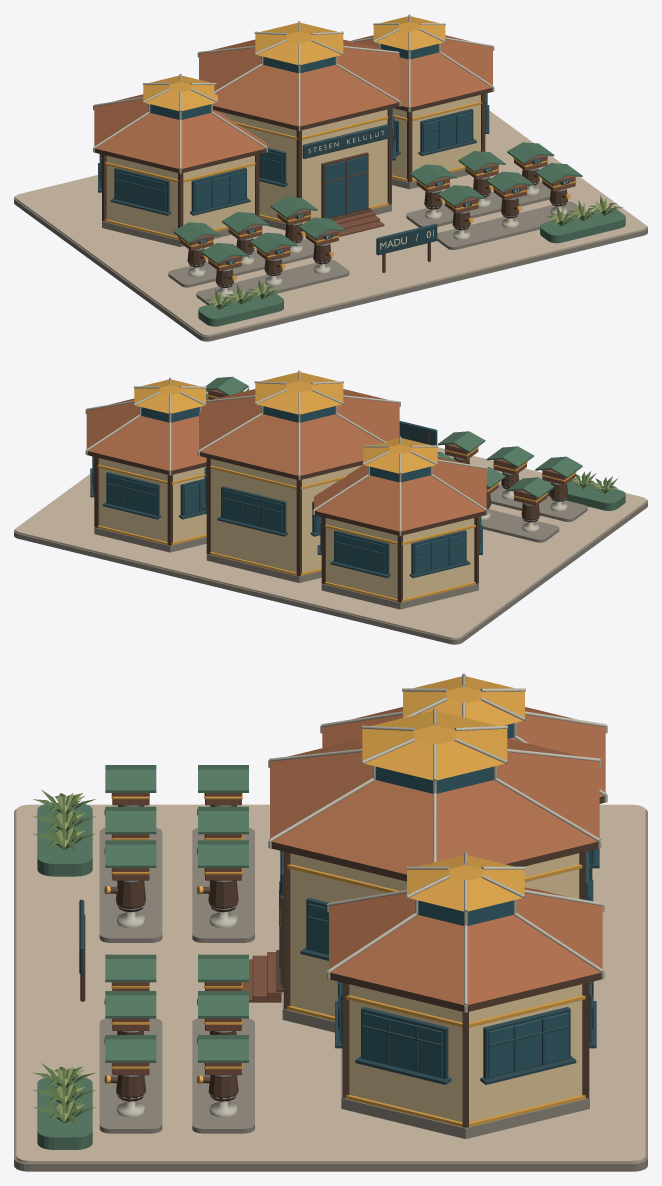
3 views of the same model, one above another, from view 1: azimuth 30°, elevation 25°; view 2: azimuth 150°, elevation 25°; view 3: azimuth 270°, elevation 25° (orthographic). The views are drawn at different scales.
Parts seen in each view (by area): view 1: Gravel Sampling Yard, Copper Cell Roofs, Hexagonal Field Lab, Log Hive Stands, Pollinator Beds; view 2: Copper Cell Roofs, Hexagonal Field Lab, Gravel Sampling Yard, Log Hive Stands, Pollinator Beds; view 3: Gravel Sampling Yard, Copper Cell Roofs, Hexagonal Field Lab, Log Hive Stands, Pollinator Beds.
Boxes of the visible parts, x1=… form: Gravel Sampling Yard: x1=14, y1=110, x2=647, y2=341; Copper Cell Roofs: x1=93, y1=14, x2=494, y2=173; Hexagonal Field Lab: x1=98, y1=93, x2=489, y2=246; Log Hive Stands: x1=173, y1=142, x2=582, y2=297; Pollinator Beds: x1=198, y1=195, x2=625, y2=326; Copper Cell Roofs: x1=85, y1=370, x2=487, y2=535; Hexagonal Field Lab: x1=90, y1=456, x2=482, y2=609; Gravel Sampling Yard: x1=14, y1=392, x2=647, y2=644; Log Hive Stands: x1=206, y1=376, x2=582, y2=532; Pollinator Beds: x1=206, y1=387, x2=625, y2=510; Gravel Sampling Yard: x1=14, y1=804, x2=647, y2=1171; Copper Cell Roofs: x1=268, y1=673, x2=607, y2=1012; Hexagonal Field Lab: x1=276, y1=848, x2=599, y2=1138; Log Hive Stands: x1=104, y1=765, x2=248, y2=1117; Pollinator Beds: x1=32, y1=789, x2=95, y2=1149.
Size of the model in its own units: 23.25 by 7.86 by 17.4.
